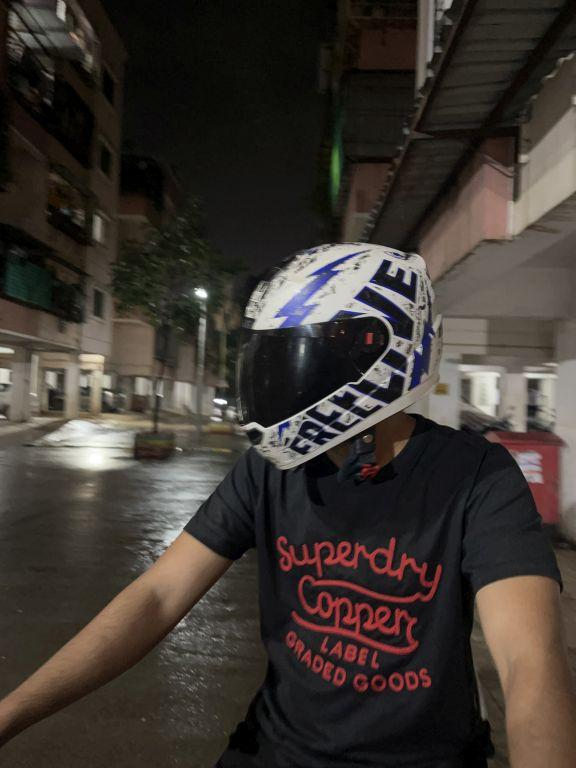helmet: (212, 225, 448, 489)
